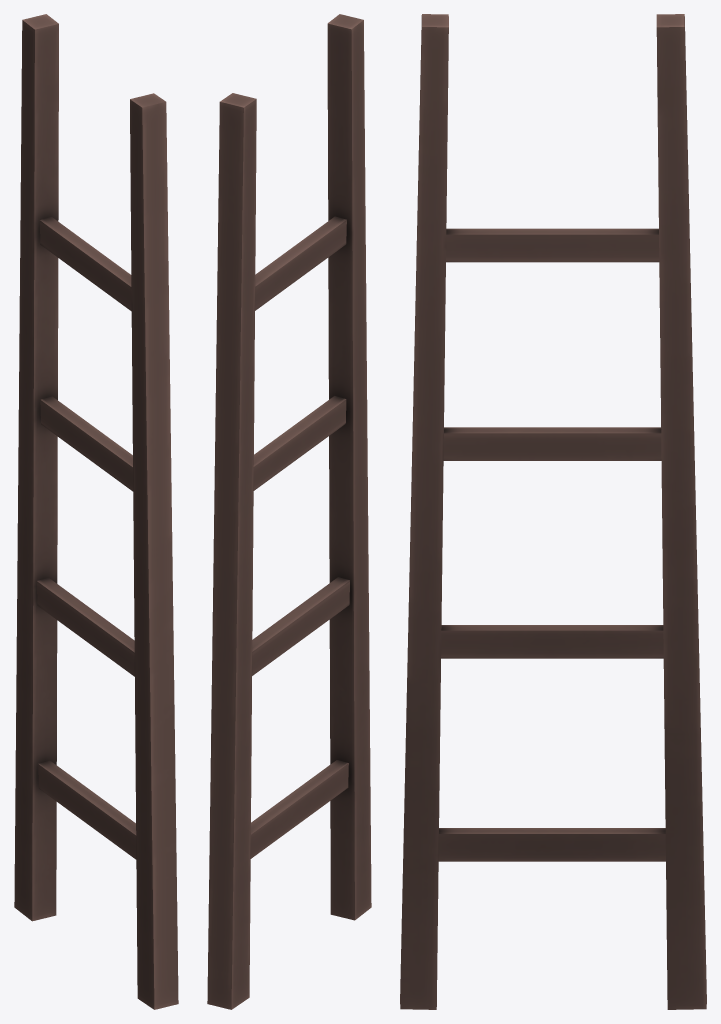
The model's file is Props_0.fbx.
The picture shows the model from 3 angles, left to right: view 1: azimuth 30°, elevation 25°; view 2: azimuth 150°, elevation 25°; view 3: azimuth 270°, elevation 25°; orthographic projection. The views are drawn at different scales.
Parts seen in each view (by area): view 1: Props_0; view 2: Props_0; view 3: Props_0.
Boxes of the visible parts, x1,y1,x2,y2 form: Props_0: (14, 14, 178, 1009); Props_0: (207, 14, 371, 1009); Props_0: (400, 14, 706, 1009).
Size of the model in its own units: 2.3 by 74.45 by 21.08.
